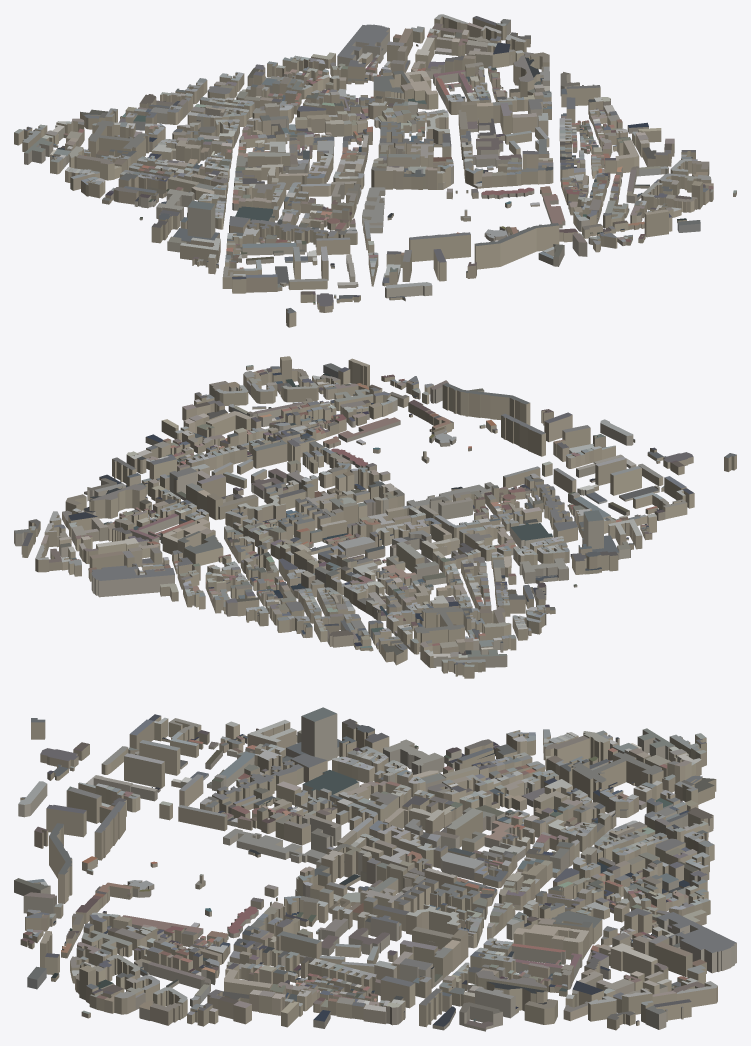
3 renders of one model, top to bottom at view 1: azimuth 30°, elevation 25°; view 2: azimuth 150°, elevation 25°; view 3: azimuth 270°, elevation 25°, orthographic. The views are drawn at different scales.
Visible parts, largest first — view 1: tuile; view 2: tuile; view 3: tuile.
Part boxes in pixels (x1,y1,x2,y2): tuile: (14,14,736,327); tuile: (14,356,736,678); tuile: (14,707,736,1031).
Size of the model in its own units: 1043 by 90.36 by 1064.
